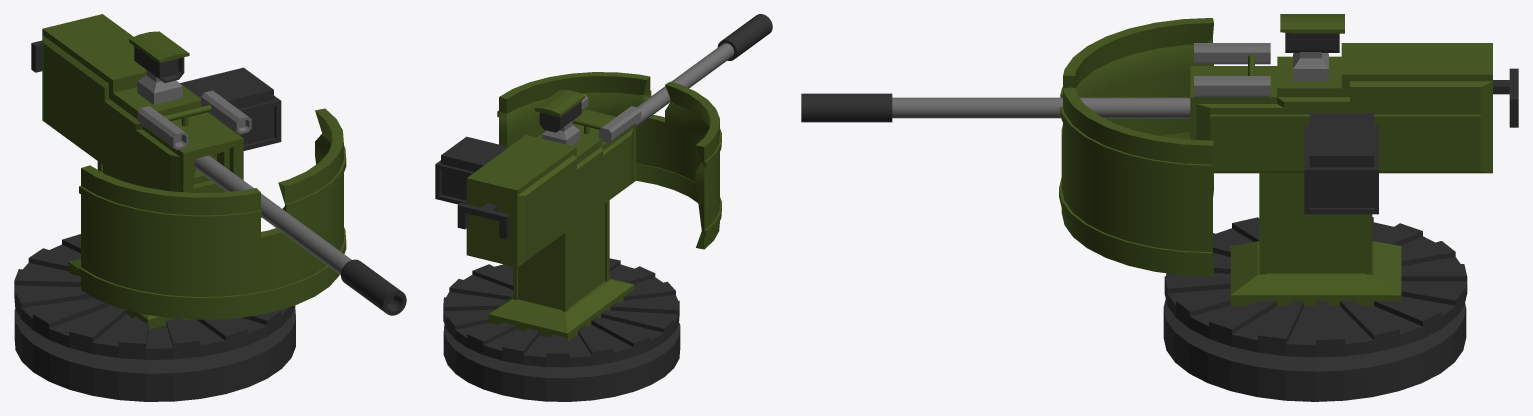
Rendered from WWTurret.fbx.
The picture shows the model from 3 angles, left to right: view 1: azimuth 30°, elevation 25°; view 2: azimuth 150°, elevation 25°; view 3: azimuth 270°, elevation 25°; orthographic projection. The views are drawn at different scales.
Visible parts, largest first — view 1: Cylinder.012, Cube.015, Cylinder.011, Cylinder.010, Cube.016, Cylinder.013, Cylinder.014, Cube.020, Cube.021, Cube.022, Cube.018, Cube.019 (+2 smaller); view 2: Cube.015, Cylinder.012, Cylinder.011, Cylinder.010, Cube.014, Cube.013, Cube.016, Cylinder.013, Cylinder.014, Cube.017, Cube.020, Cube.021 (+2 smaller); view 3: Cylinder.012, Cube.015, Cylinder.011, Cylinder.010, Cube.014, Cube.016, Cube.013, Cylinder.013, Cylinder.014, Cube.022, Cube.021, Cube.020 (+3 smaller).
Boxes of the visible parts, bbox=[...] form: Cylinder.012: bbox=[79, 108, 346, 319]; Cube.015: bbox=[42, 14, 243, 192]; Cylinder.011: bbox=[14, 234, 295, 359]; Cylinder.010: bbox=[14, 306, 295, 401]; Cube.016: bbox=[180, 67, 281, 150]; Cylinder.013: bbox=[194, 155, 351, 274]; Cylinder.014: bbox=[341, 259, 406, 315]; Cube.020: bbox=[129, 31, 189, 62]; Cube.021: bbox=[137, 106, 188, 149]; Cube.022: bbox=[201, 90, 251, 134]; Cube.018: bbox=[137, 70, 182, 104]; Cube.019: bbox=[134, 46, 184, 82]; Cube.015: bbox=[466, 109, 635, 267]; Cylinder.012: bbox=[497, 72, 721, 249]; Cylinder.011: bbox=[443, 258, 679, 367]; Cylinder.010: bbox=[443, 322, 680, 401]; Cube.014: bbox=[513, 200, 609, 311]; Cube.013: bbox=[488, 278, 634, 341]; Cube.016: bbox=[435, 136, 508, 204]; Cylinder.013: bbox=[636, 43, 734, 126]; Cylinder.014: bbox=[717, 14, 772, 60]; Cube.017: bbox=[457, 202, 509, 239]; Cube.020: bbox=[535, 89, 585, 117]; Cube.021: bbox=[599, 106, 641, 142]; Cylinder.012: bbox=[1059, 18, 1213, 276]; Cube.015: bbox=[1190, 43, 1492, 173]; Cylinder.011: bbox=[1164, 217, 1467, 357]; Cylinder.010: bbox=[1163, 299, 1466, 401]; Cube.014: bbox=[1259, 172, 1372, 274]; Cube.016: bbox=[1304, 113, 1378, 214]; Cube.013: bbox=[1230, 241, 1401, 305]; Cylinder.013: bbox=[892, 97, 1190, 118]; Cylinder.014: bbox=[801, 93, 892, 122]; Cube.022: bbox=[1194, 76, 1270, 97]; Cube.021: bbox=[1194, 43, 1270, 64]; Cube.020: bbox=[1280, 14, 1344, 33].
Bounding box in the file's own units: 204 × 233 × 474.
